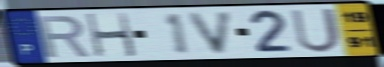1: (164, 11, 190, 57)
2: (247, 8, 297, 55)
H: (83, 11, 140, 59)
R: (35, 14, 93, 59)
U: (289, 6, 343, 55)
V: (186, 10, 237, 56)
